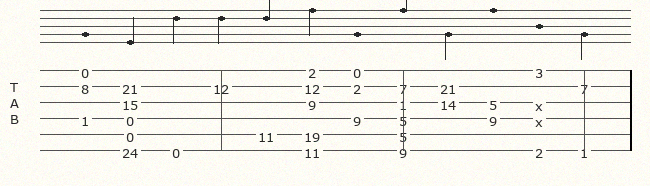0: (81, 64, 93, 77), (126, 112, 138, 125), (126, 128, 138, 141), (172, 144, 184, 157), (353, 64, 365, 77)
1: (81, 112, 93, 125), (399, 96, 411, 109), (580, 144, 592, 157)
11: (258, 128, 278, 141), (304, 144, 324, 157)
12: (213, 80, 233, 93), (304, 80, 324, 93)
14: (440, 96, 460, 109)
15: (122, 96, 142, 109)
19: (304, 128, 324, 141)
2: (308, 64, 320, 77), (353, 80, 365, 93), (535, 144, 547, 157)
21: (122, 80, 142, 93), (440, 80, 460, 93)
24: (122, 144, 142, 157)
3: (535, 64, 547, 77)
5: (399, 112, 411, 125), (399, 128, 411, 141), (489, 96, 501, 109)
7: (399, 80, 411, 93), (580, 80, 592, 93)
8: (81, 80, 93, 93)
9: (308, 96, 320, 109), (353, 112, 365, 125), (399, 144, 411, 157), (489, 112, 501, 125)
x: (535, 97, 547, 108), (535, 113, 547, 124)
